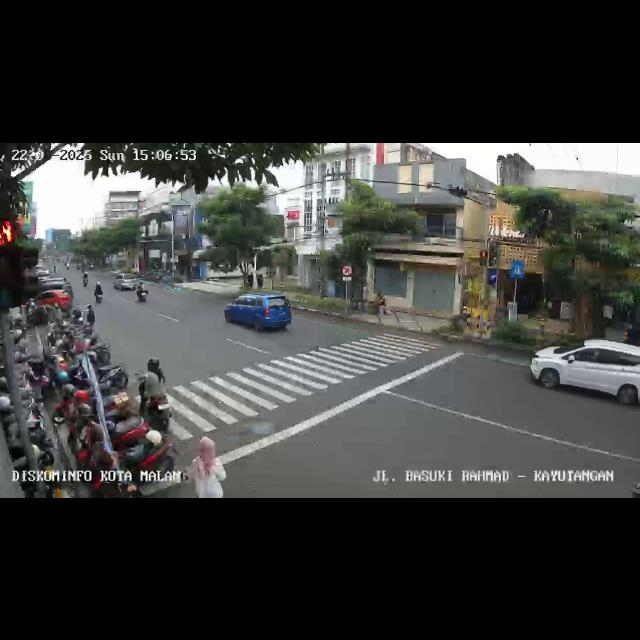car: (536, 334, 640, 411), (223, 292, 293, 336), (34, 276, 74, 314), (113, 270, 141, 290)
motorcycle: (138, 358, 172, 428), (136, 278, 148, 302), (93, 280, 103, 302), (80, 266, 90, 284)
person: (188, 434, 228, 498)
